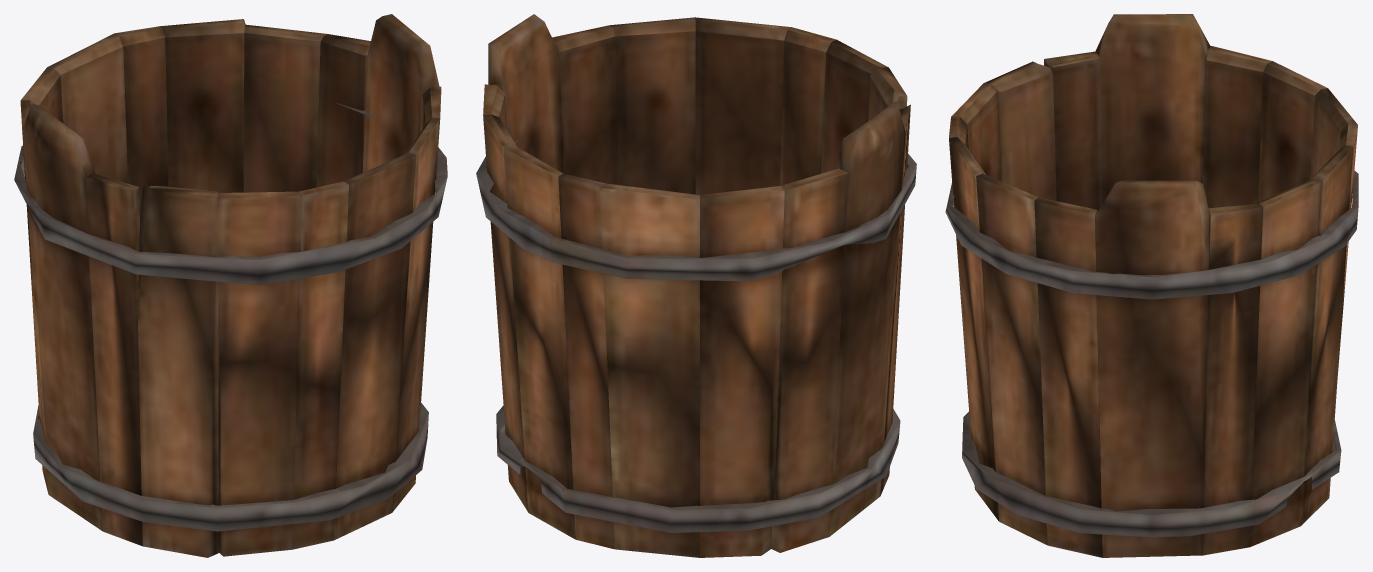
Rendered from bucket.glb.
The picture shows the model from 3 angles, left to right: view 1: azimuth 30°, elevation 25°; view 2: azimuth 150°, elevation 25°; view 3: azimuth 270°, elevation 25°; orthographic projection. The views are drawn at different scales.
Visible parts, largest first — view 1: bucket; view 2: bucket; view 3: bucket.
Boxes of the visible parts, x1,y1,x2,y2 form: bucket: (14,14,447,557); bucket: (476,14,916,557); bucket: (945,14,1358,557).
Size of the model in its own units: 0.3437 by 0.3476 by 0.3354.
1 material, 1 textured.
